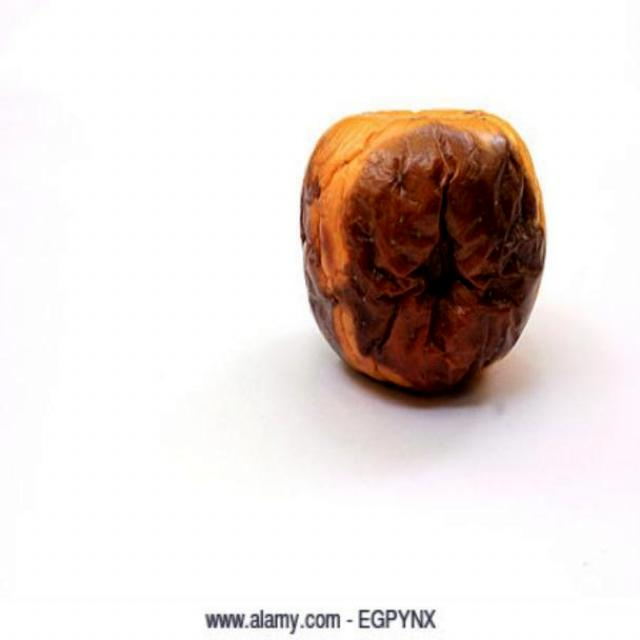ROT: (283, 90, 571, 422)
